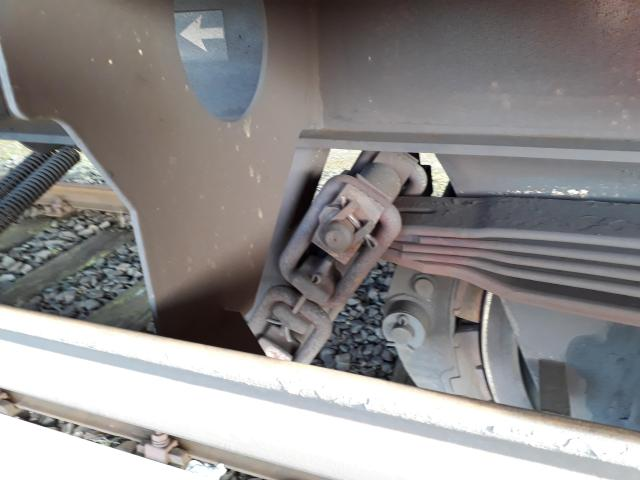blattfederww: (407, 188, 640, 308)
